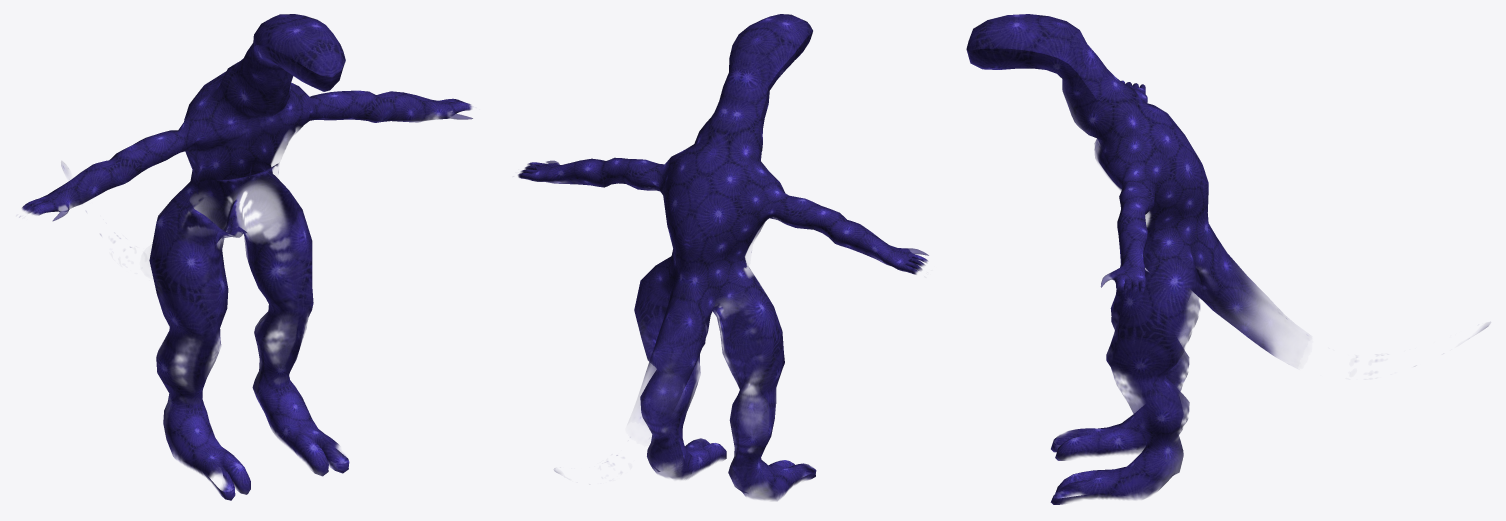
The model's file is sonask.glb.
The picture shows the model from 3 angles, left to right: view 1: azimuth 30°, elevation 25°; view 2: azimuth 150°, elevation 25°; view 3: azimuth 270°, elevation 25°; orthographic projection. The views are drawn at different scales.
Visible parts, largest first — view 1: sonask; view 2: sonask; view 3: sonask.
Boxes of the visible parts, x1,y1,x2,y2 form: sonask: (19,14,472,500); sonask: (518,14,928,500); sonask: (966,14,1490,504).
Bounding box in the file's own units: 0.9749 × 0.9728 × 1.
1 material, 1 textured.
